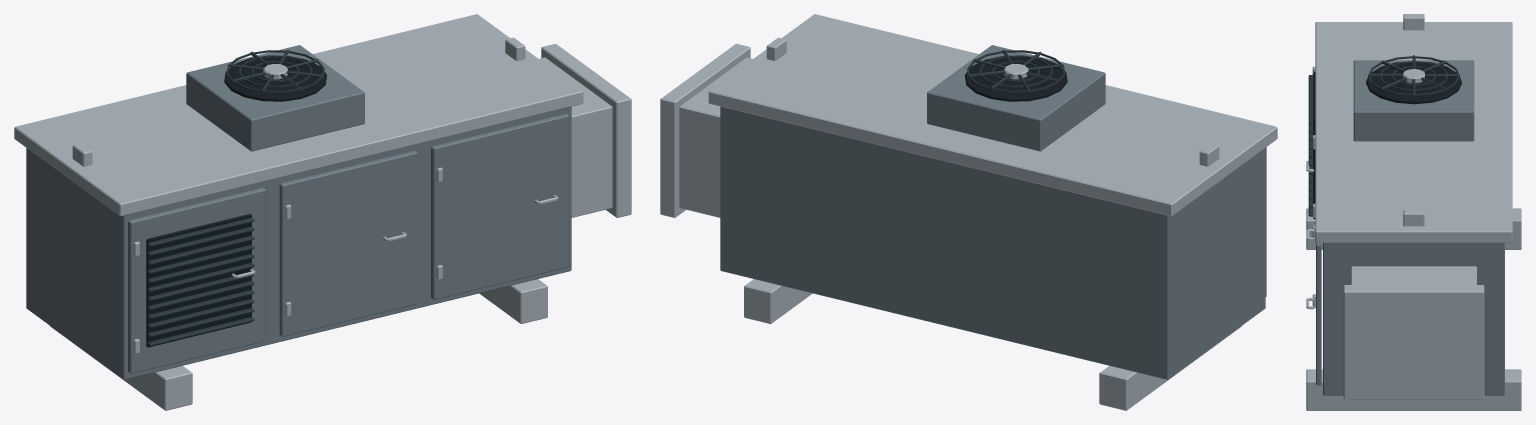
Rendered from b05_long_rooftop_air_handler.glb.
The picture shows the model from 3 angles, left to right: view 1: azimuth 30°, elevation 25°; view 2: azimuth 150°, elevation 25°; view 3: azimuth 270°, elevation 25°; orthographic projection. The views are drawn at different scales.
Parts seen in each view (by area): view 1: b05_long_rooftop_air_handler; view 2: b05_long_rooftop_air_handler; view 3: b05_long_rooftop_air_handler.
Part boxes in pixels (x1=…): b05_long_rooftop_air_handler: x1=14, y1=14, x2=631, y2=410; b05_long_rooftop_air_handler: x1=660, y1=14, x2=1277, y2=410; b05_long_rooftop_air_handler: x1=1306, y1=14, x2=1521, y2=410.
Size of the model in its own units: 3.41 by 1.6 by 1.3.
